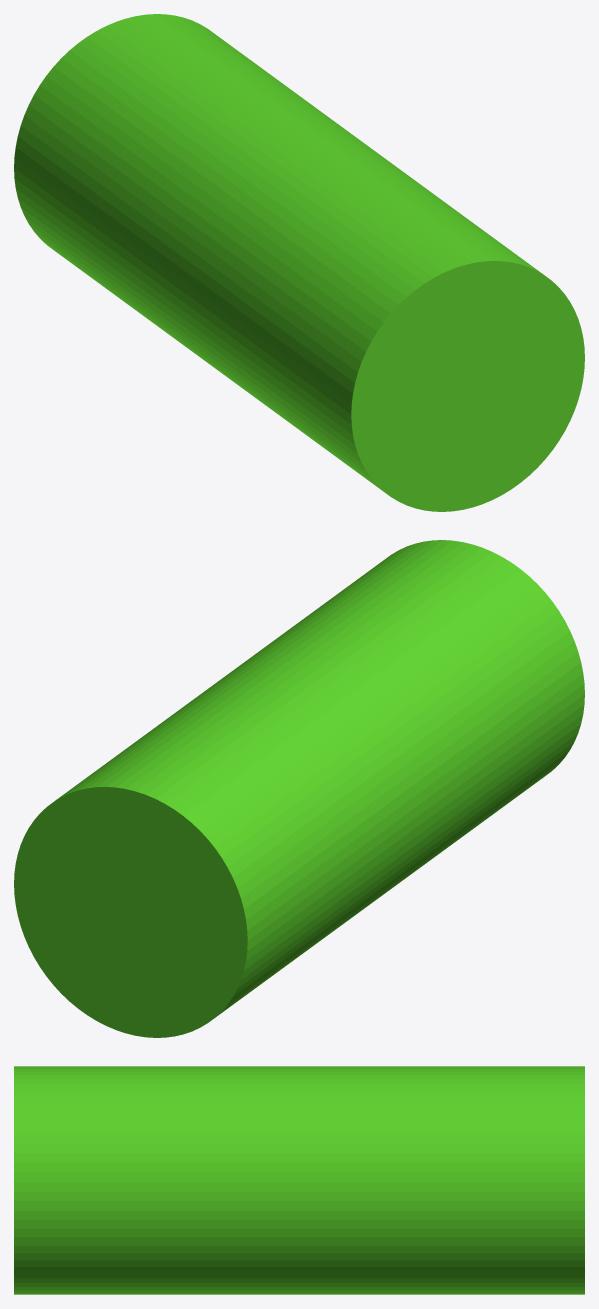
File: Green-buoy.color.dae
3 renders of one model, top to bottom at view 1: azimuth 30°, elevation 25°; view 2: azimuth 150°, elevation 25°; view 3: azimuth 270°, elevation 25°, orthographic. The views are drawn at different scales.
Parts seen in each view (by area): view 1: GREEN-BUOY; view 2: GREEN-BUOY; view 3: GREEN-BUOY.
Part boxes in pixels (box(x1,y1,x2,y2)): GREEN-BUOY: box(14, 14, 584, 511); GREEN-BUOY: box(14, 540, 584, 1037); GREEN-BUOY: box(14, 1066, 584, 1294).
Bounding box in the file's own units: 10.16 × 25.4 × 10.15.
